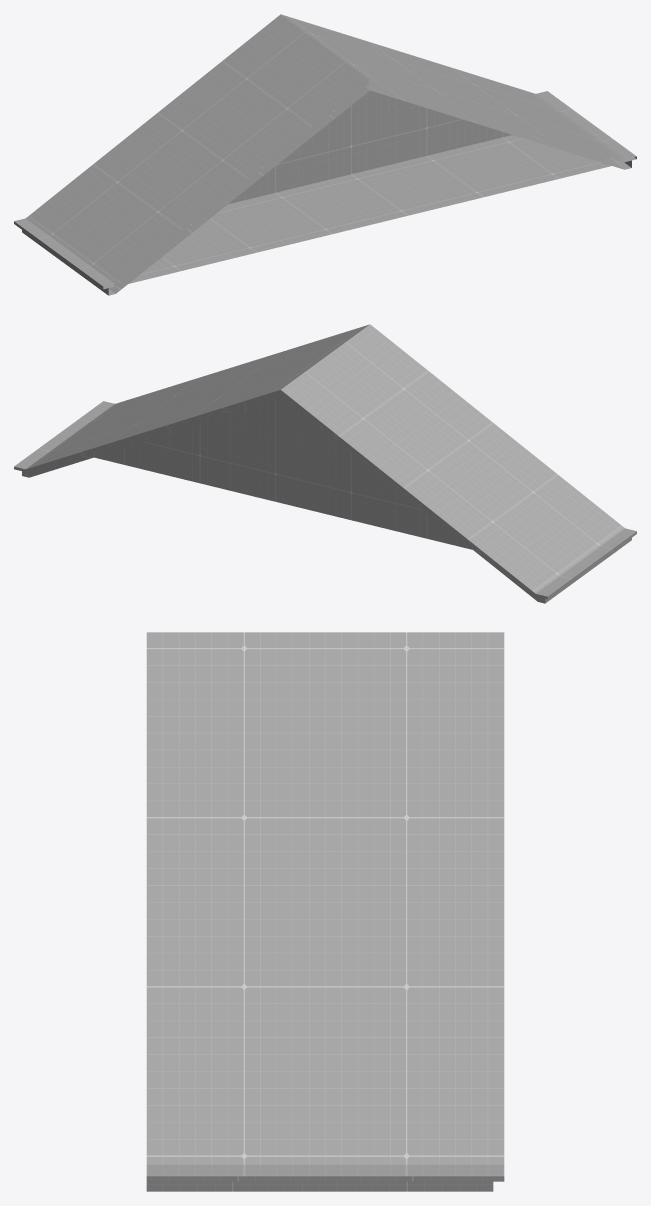
File: Roof.005.fbx
3 views of the same model, one above another, from view 1: azimuth 30°, elevation 25°; view 2: azimuth 150°, elevation 25°; view 3: azimuth 270°, elevation 25° (orthographic). The views are drawn at different scales.
Parts seen in each view (by area): view 1: Roof.005; view 2: Roof.005; view 3: Roof.005.
Boxes of the visible parts, x1=… form: Roof.005: x1=14, y1=14, x2=636, y2=295; Roof.005: x1=14, y1=324, x2=636, y2=603; Roof.005: x1=146, y1=632, x2=504, y2=1191.
Bounding box in the file's own units: 706 × 192 × 205.
